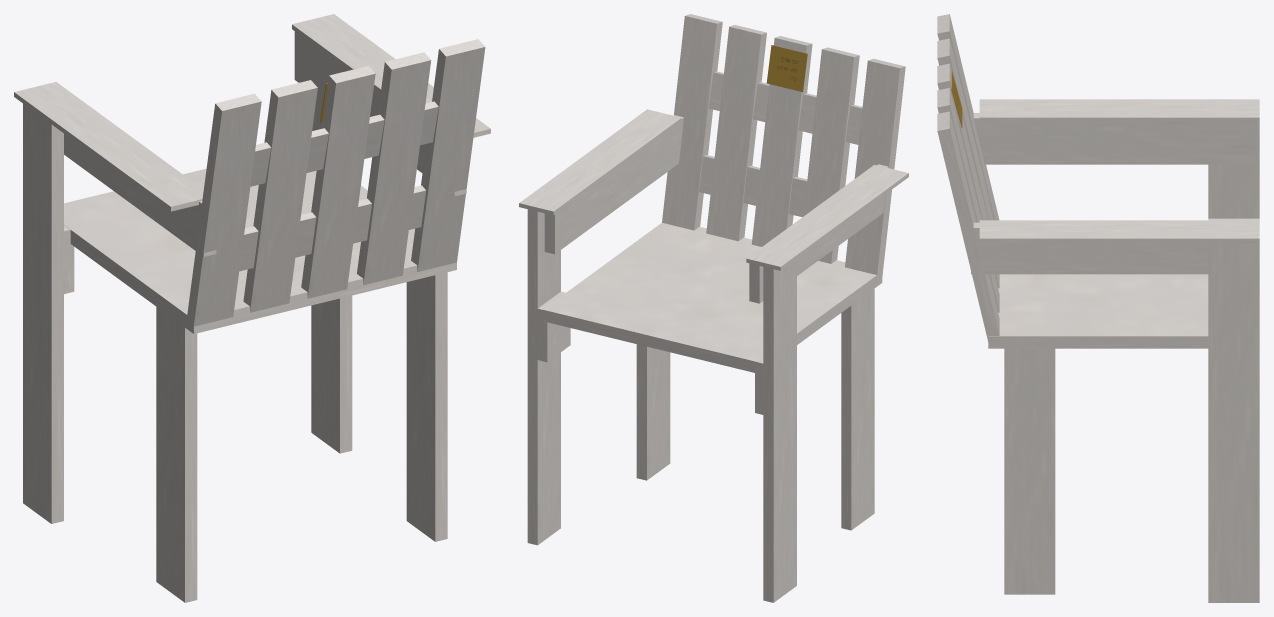
File: ChairWithNote.fbx
3 renders of one model, left to right at view 1: azimuth 30°, elevation 25°; view 2: azimuth 150°, elevation 25°; view 3: azimuth 270°, elevation 25°, orthographic. The views are drawn at different scales.
Parts seen in each view (by area): view 1: Cube.001, Cube, Cube.012, Cube.013, Cube.005, Cube.007, Cube.006, Cube.008, Cube.009, Cube.016, Cube.002, Cube.017 (+5 smaller); view 2: Cube, Cube.001, Cube.002, Cube.008, Cube.012, Cube.009, Cube.005, Cube.007, Cube.006, Cube.015, Cube.017, Cube.016 (+6 smaller); view 3: Cube.002, Cube, Cube.013, Cube.014, Cube.015, Cube.016, Cube.017, Cube.009, Cube.001, Cube.005, Cube.006, Cube.008 (+1 smaller).
Boxes of the visible parts, x1,y1,x2,y2 form: Cube.001: (23,103,63,523); Cube: (64,168,456,333); Cube.012: (156,307,197,602); Cube.013: (406,272,447,541); Cube.005: (186,93,261,331); Cube.007: (301,66,375,298); Cube.006: (243,80,317,312); Cube.008: (357,52,431,285); Cube.009: (411,39,485,271); Cube.016: (14,82,203,211); Cube.002: (311,96,352,453); Cube.017: (292,14,490,137); Cube: (543,223,882,372); Cube.001: (763,259,796,602); Cube.002: (527,209,560,545); Cube.008: (706,25,766,241); Cube.012: (841,288,874,530); Cube.009: (662,14,722,230); Cube.005: (845,58,905,283); Cube.007: (751,36,812,246); Cube.006: (803,47,859,263); Cube.015: (544,115,683,254); Cube.017: (519,109,681,215); Cube.016: (746,165,908,270); Cube.002: (1208,243,1259,602); Cube: (988,274,1208,348); Cube.013: (1004,348,1055,594); Cube.014: (973,113,1255,164); Cube.015: (971,222,1208,274); Cube.016: (979,99,1259,121); Cube.017: (979,220,1259,242); Cube.009: (937,111,999,341); Cube.001: (1208,122,1259,218); Cube.005: (937,14,999,220); Cube.006: (937,38,993,220); Cube.008: (937,88,999,312).
Size of the model in its own units: 243 by 379 by 238.
19 materials, 19 textured.
